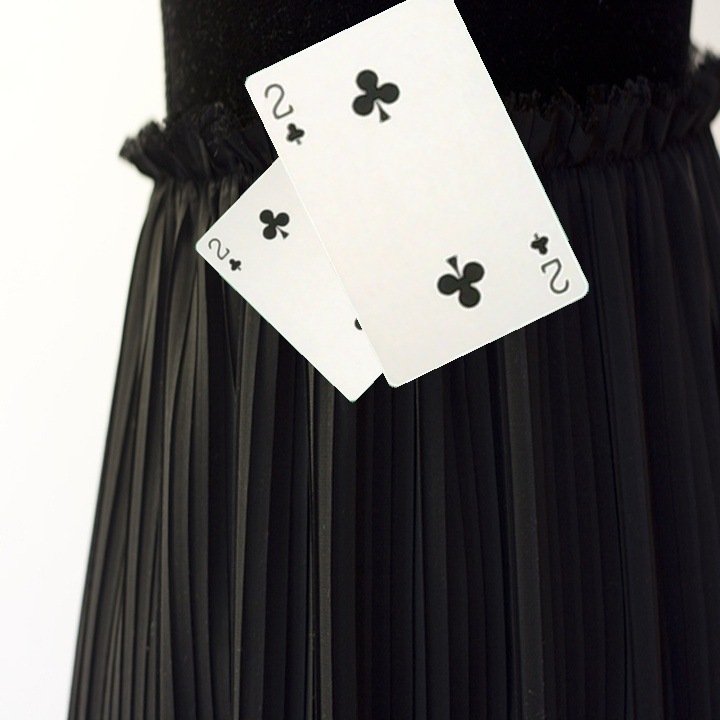2c: (259, 78, 308, 148), (525, 228, 573, 298), (204, 233, 244, 274)
